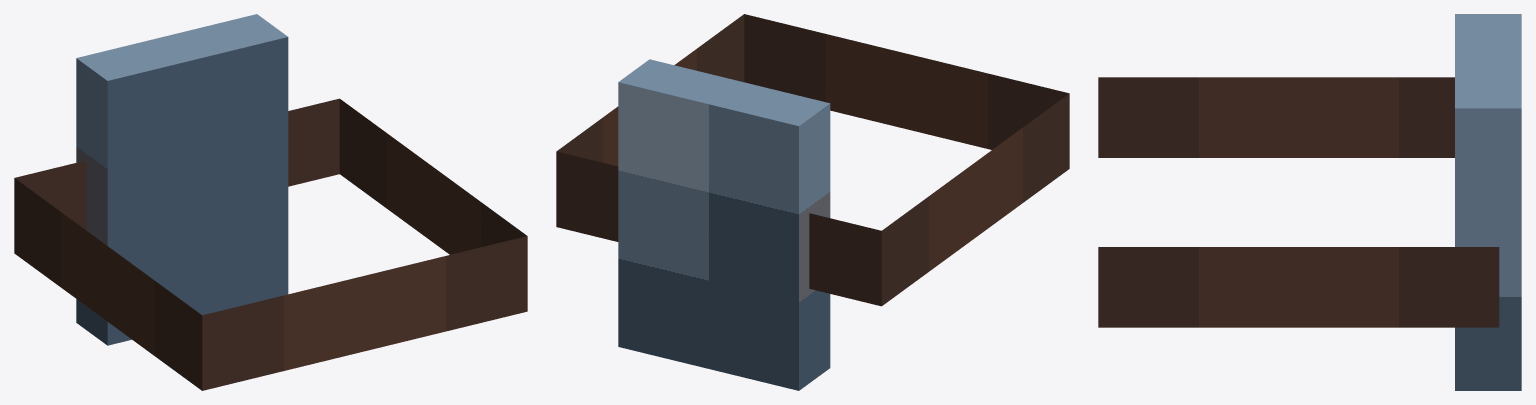
Rendered from electromancer_leggings.glb.
3 renders of one model, left to right at view 1: azimuth 30°, elevation 25°; view 2: azimuth 150°, elevation 25°; view 3: azimuth 270°, elevation 25°, orthographic. The views are drawn at different scales.
Bounding box in the file's own units: 0.2812 × 0.2188 × 0.2969.
1 material, 1 textured.
